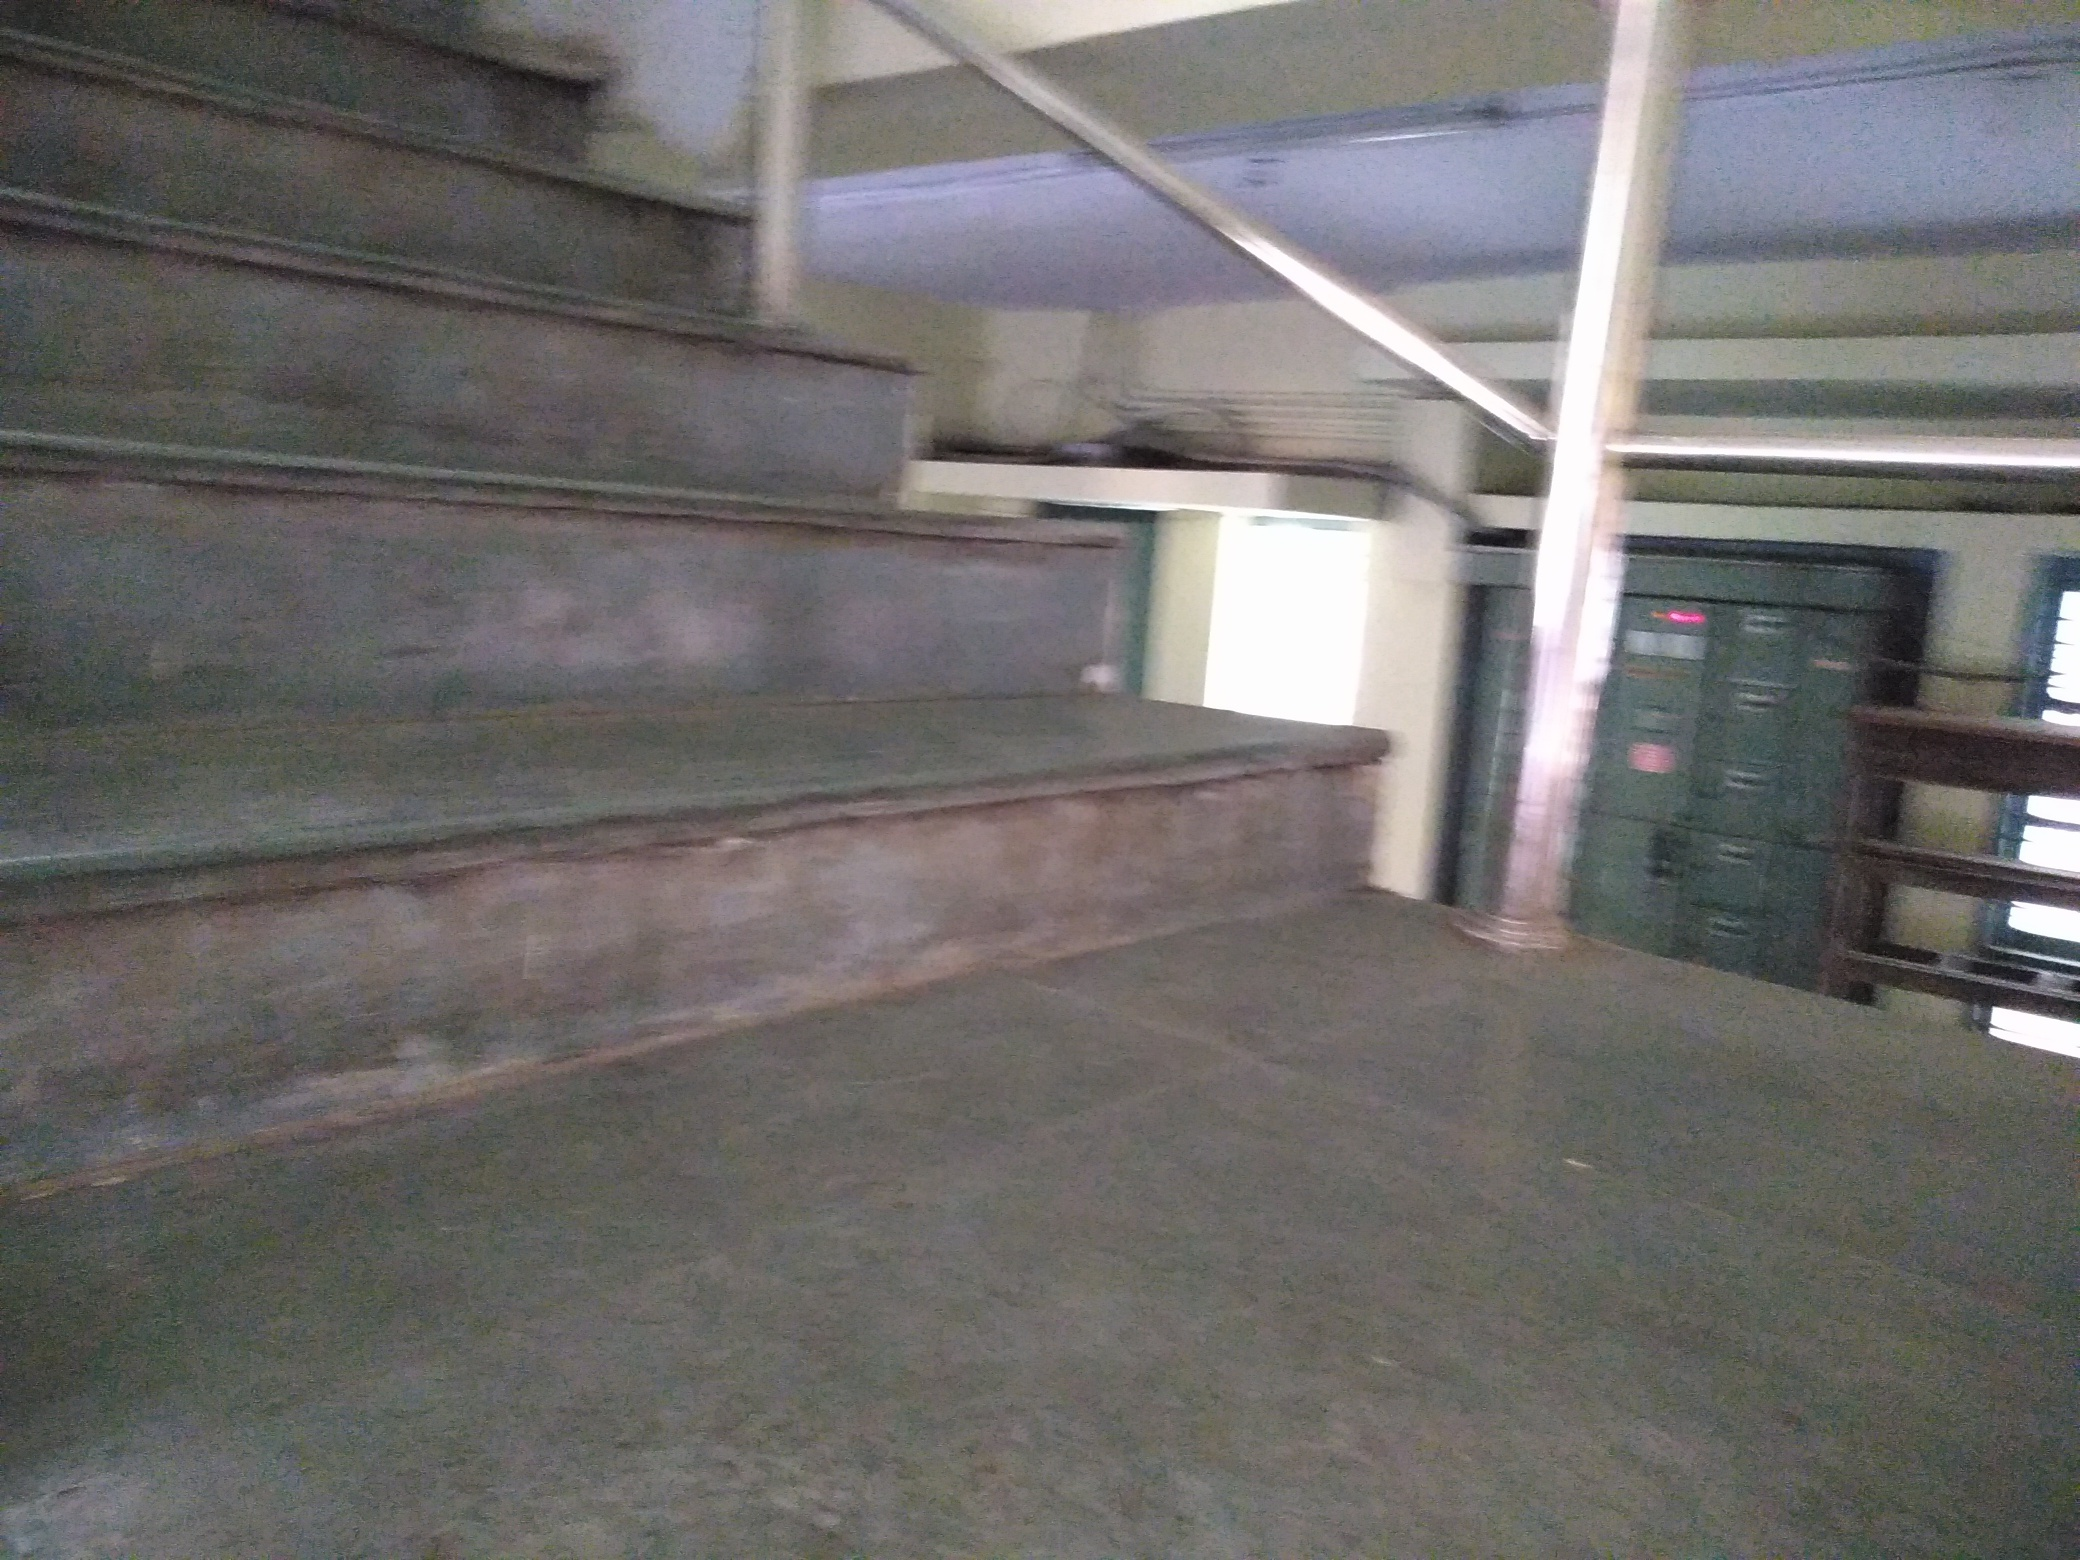stairs_up: (15, 51, 1343, 1054)
